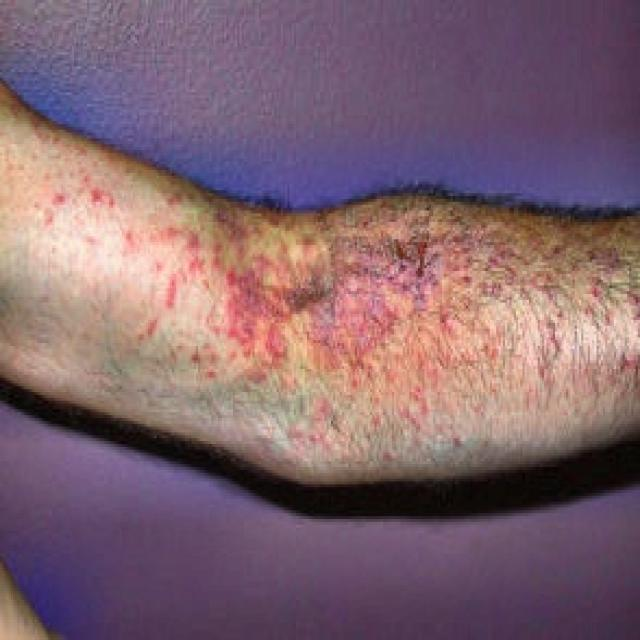Tinea Ringworm Candidiasis and other Fungal Infections: (54, 175, 531, 413)
